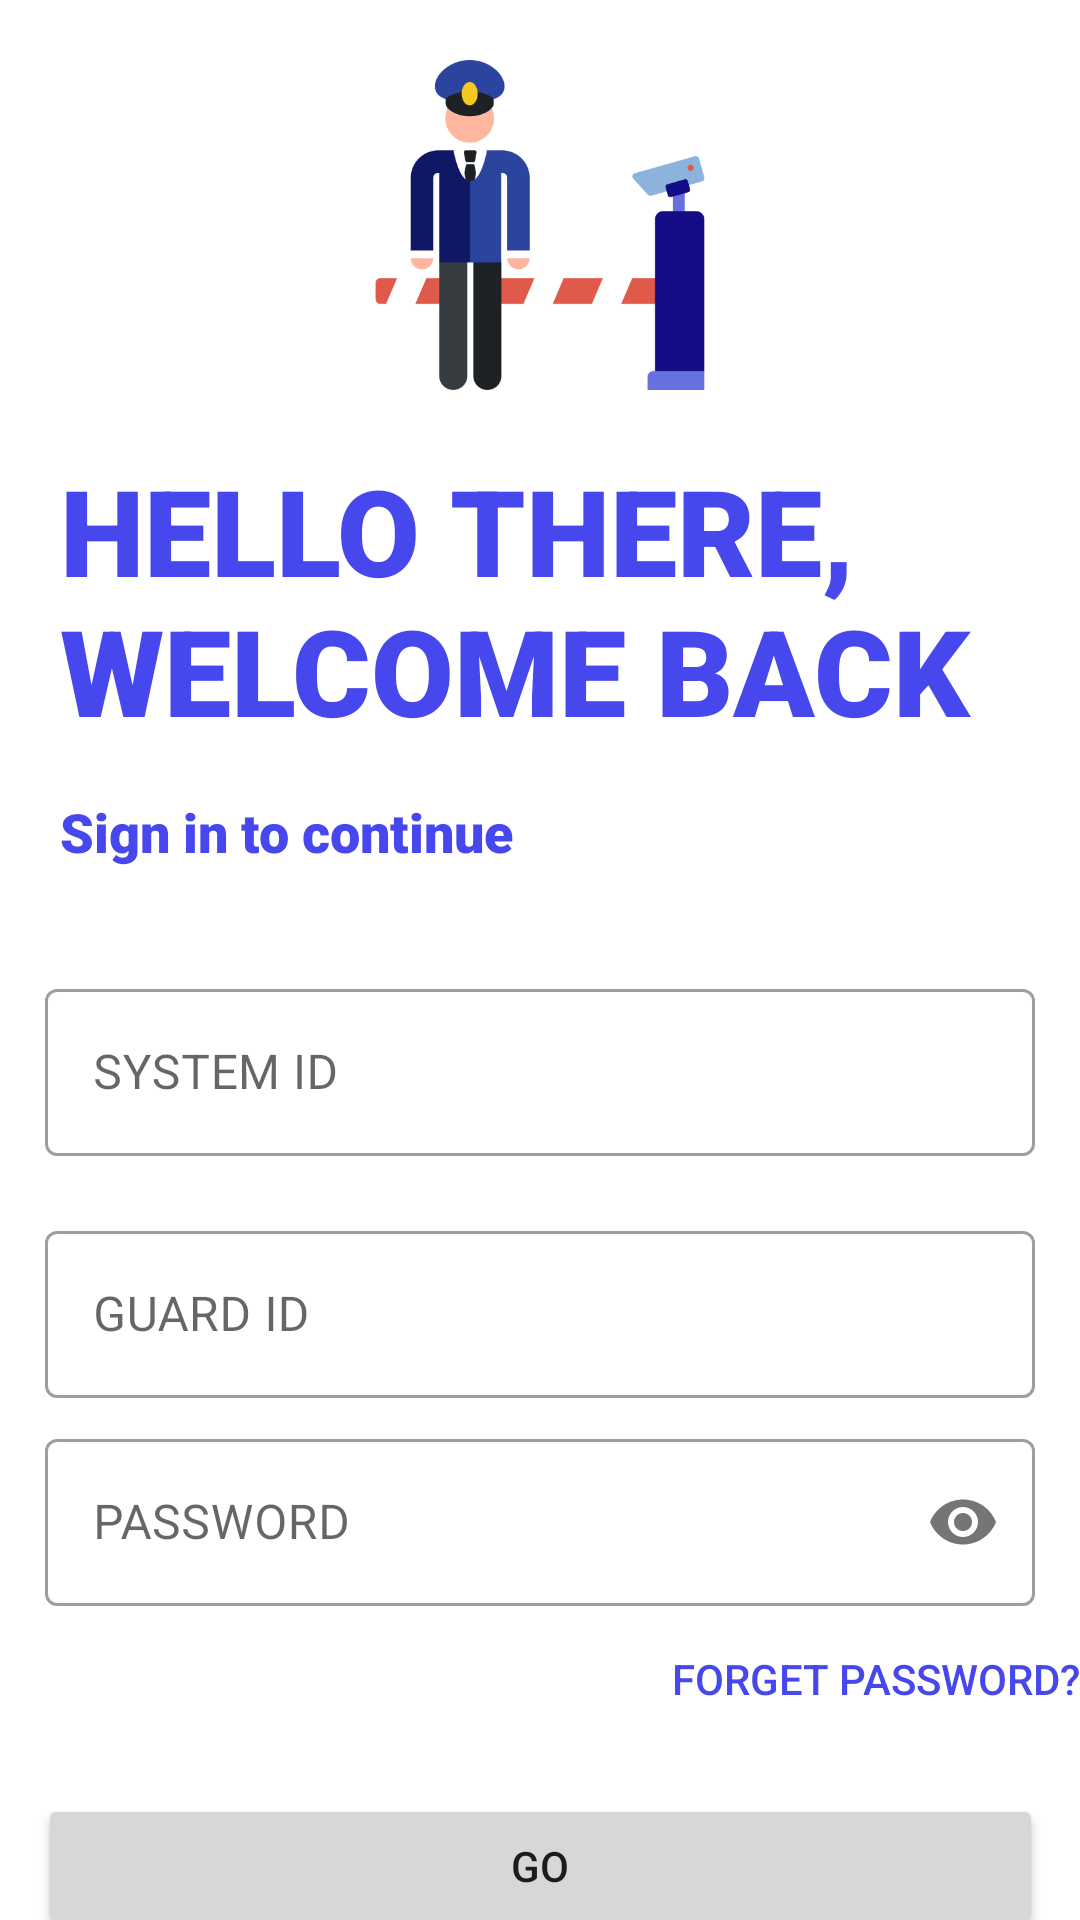

Icon bounding boxes for this 1080 x 1920 phone screenshot, format {"x1": x1, "y1": y1, "x2": x2, "y2": y2}:
guard: {"x1": 375, "y1": 60, "x2": 705, "y2": 390}
